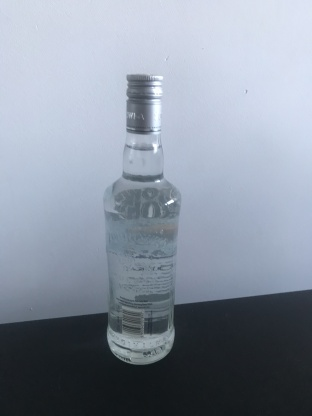nakretka: (124, 72, 164, 136)
